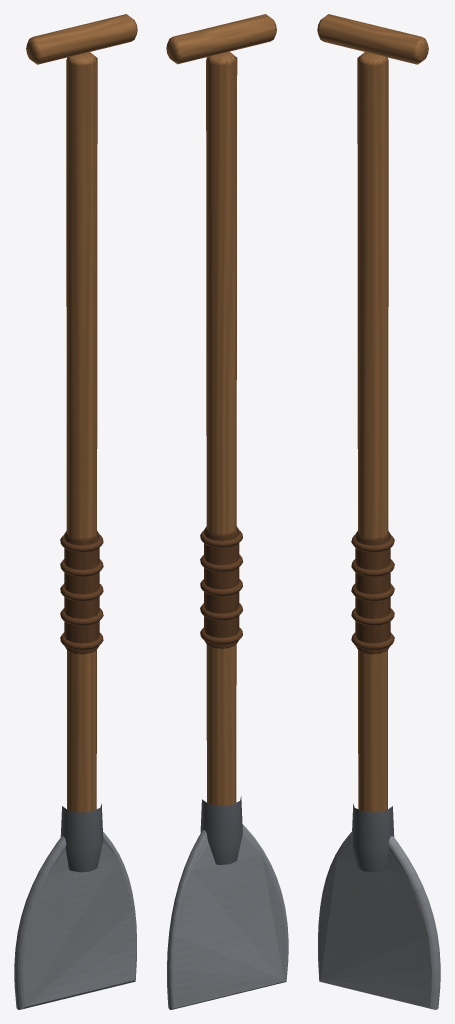
The model's file is shovel.glb.
3 renders of one model, left to right at view 1: azimuth 30°, elevation 25°; view 2: azimuth 210°, elevation 25°; view 3: azimuth 330°, elevation 25°, orthographic.
Parts seen in each view (by area): view 1: shovel, grip; view 2: shovel, grip; view 3: shovel, grip.
Part boxes in pixels (bbox=[...]): shovel: bbox=[14, 14, 137, 1009]; grip: bbox=[60, 531, 103, 654]; shovel: bbox=[166, 14, 288, 1009]; grip: bbox=[200, 526, 242, 648]; shovel: bbox=[317, 14, 440, 1009]; grip: bbox=[351, 531, 394, 654].
Bounding box in the file's own units: 0.165 × 1.27 × 0.0521.
Materials: 4 (4 with a texture image).
